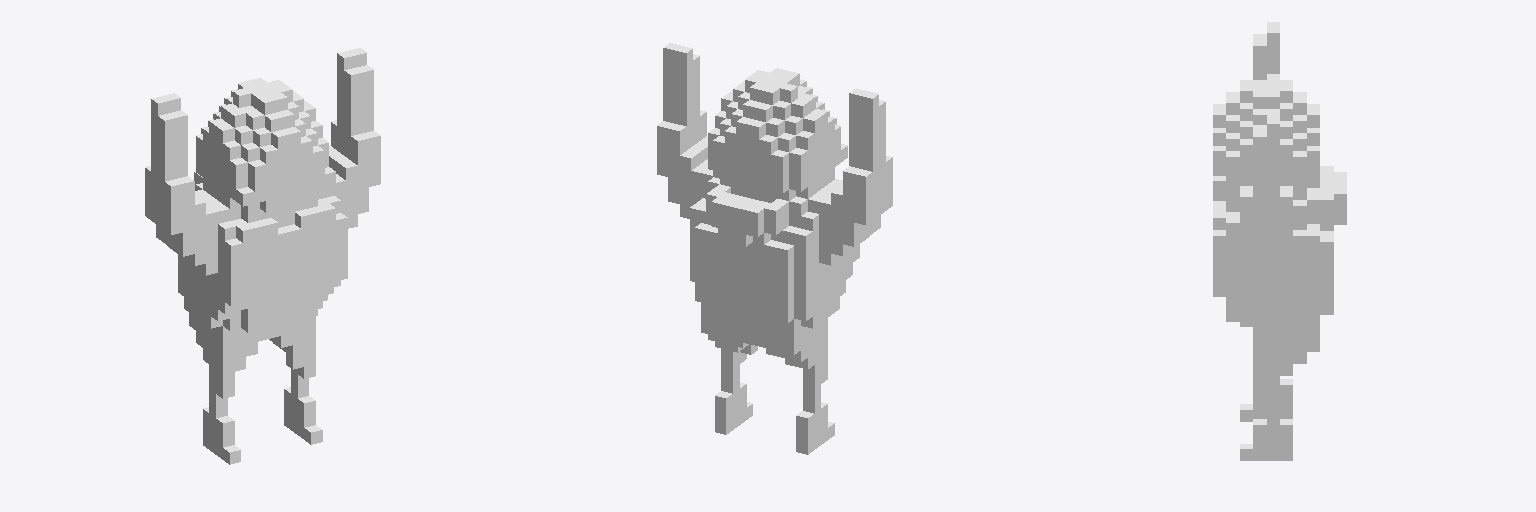
Rendered from Moniteu_ski.obj.
3 views of the same model, side by side, from view 1: azimuth 30°, elevation 25°; view 2: azimuth 150°, elevation 25°; view 3: azimuth 270°, elevation 25° (orthographic).
Bounding box in the file's own units: 18 × 30 × 10.